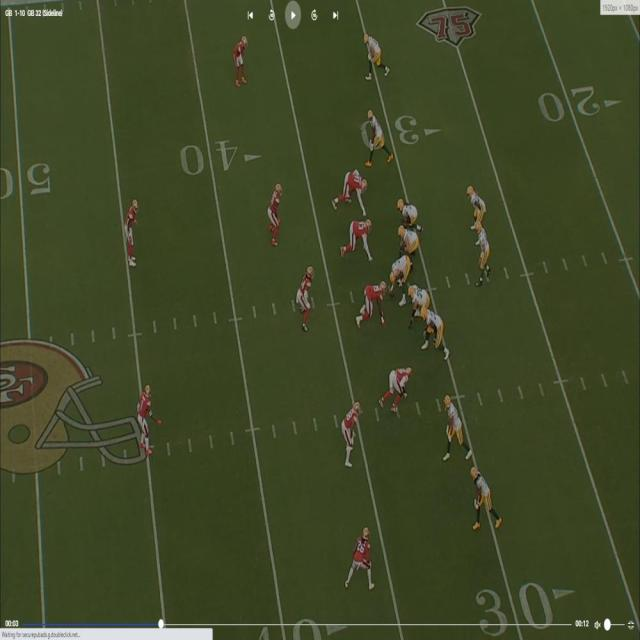center: (388, 256, 411, 295)
db: (125, 196, 138, 266), (137, 383, 150, 447), (232, 34, 246, 81)
lb: (345, 402, 361, 464), (300, 271, 314, 326), (272, 182, 283, 244)
qb: (475, 226, 490, 283)
skill: (444, 397, 469, 461), (471, 468, 496, 528), (347, 528, 372, 588), (366, 32, 387, 79), (369, 111, 387, 162), (466, 187, 481, 225)
